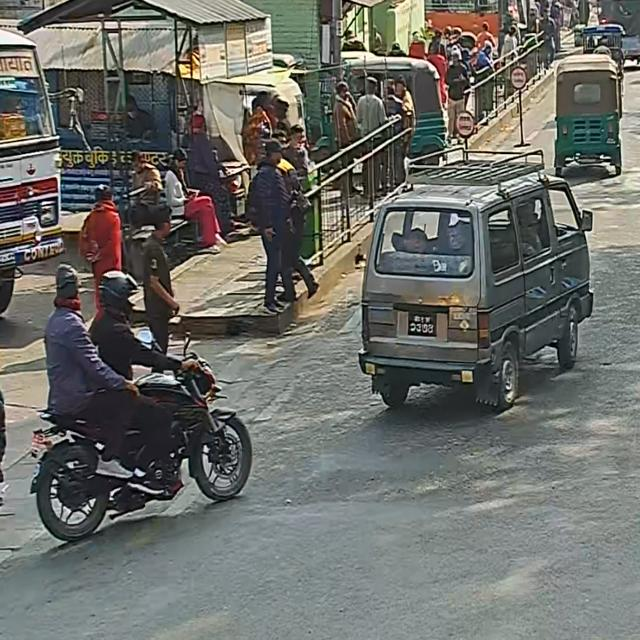license_plate: (371, 247, 501, 360)
